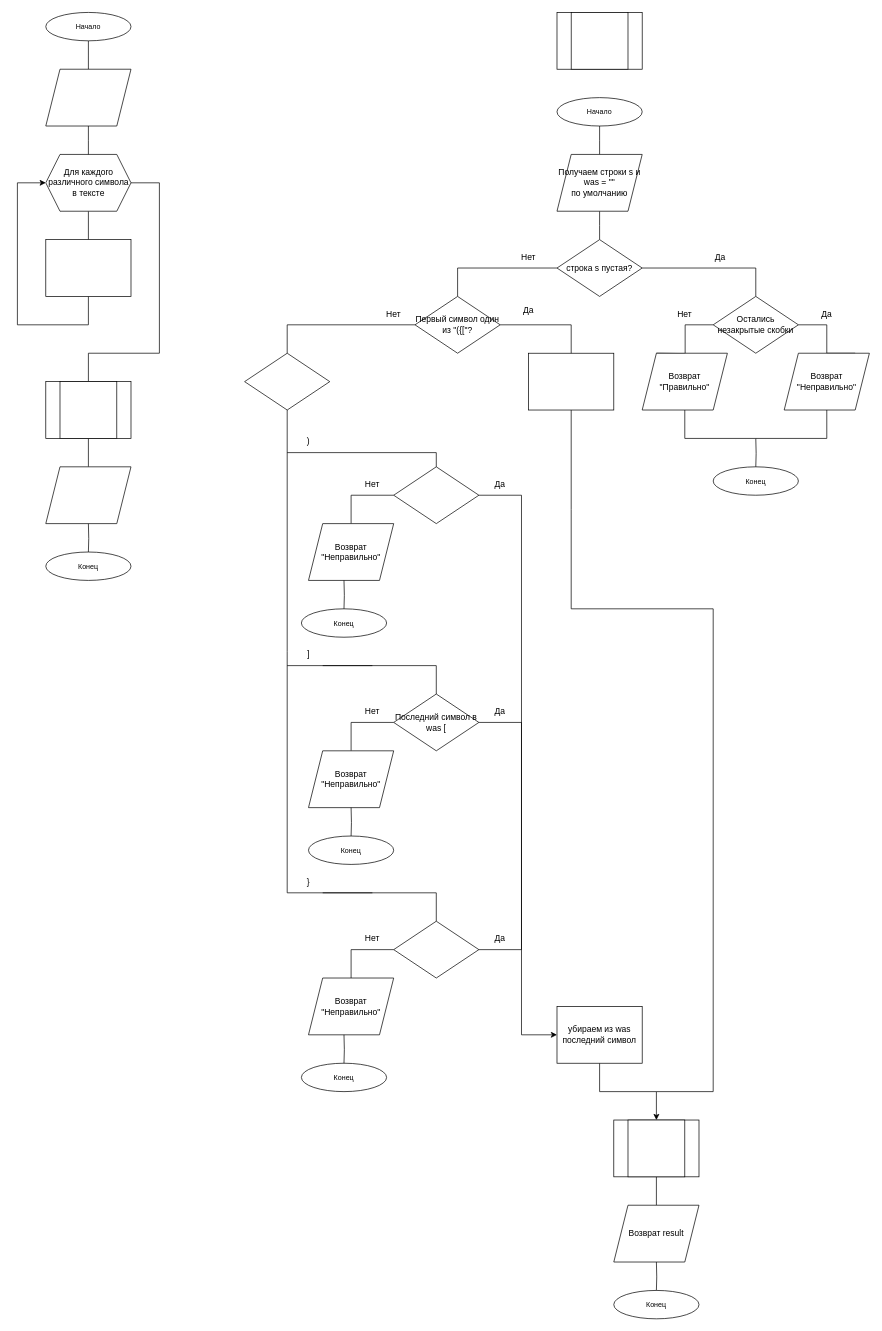
This 882x1331 diagram has some shape labels left out. The shapes that lost their labels are listed below. From the top down, each one's box as (x1, y1, x2, y2) in pixels, then its label:
(570, 12, 628, 69): f(s:str, was: str = "") -> str
(45, 69, 131, 126): Ввод текста в s
(45, 239, 131, 296): Замена не скобок пустыми символами
(244, 353, 330, 410): s[0]=?
(528, 353, 614, 410): was += s[0]
(59, 381, 117, 438): res = f(s)
(45, 466, 131, 524): Вывод res
(393, 466, 479, 524): Последний символ в was (
(393, 921, 479, 978): Последний символ в was {
(627, 1119, 685, 1177): res = f(s[1:], was)
